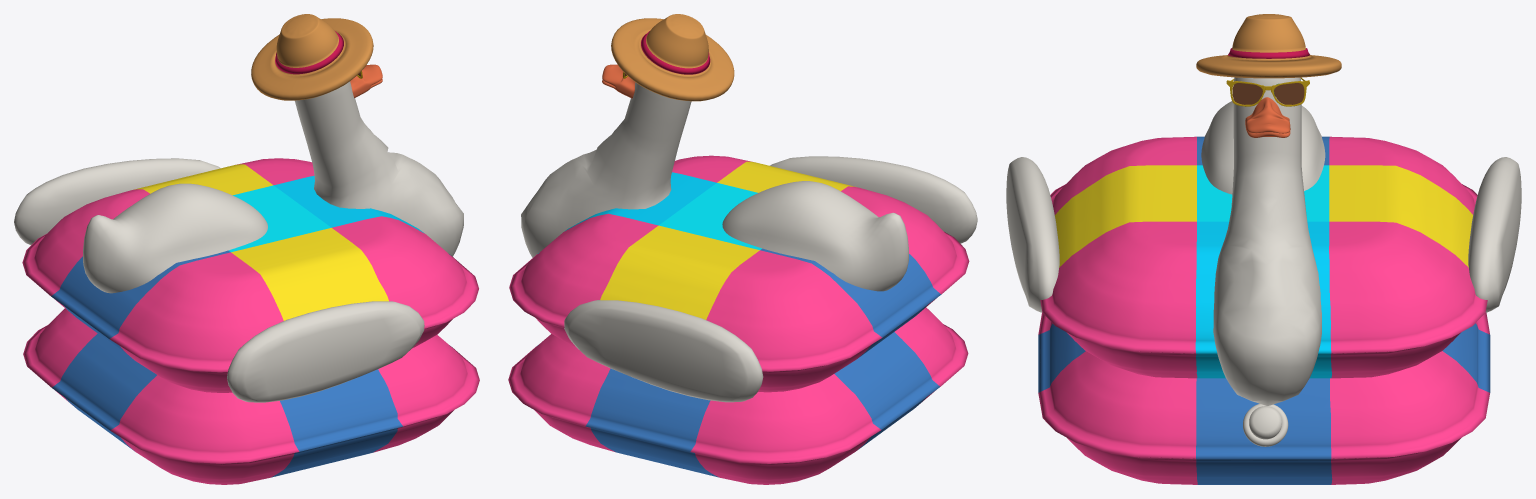
Rendered from refinedduck.fbx.
The picture shows the model from 3 angles, left to right: view 1: azimuth 30°, elevation 25°; view 2: azimuth 150°, elevation 25°; view 3: azimuth 270°, elevation 25°; orthographic projection. The views are drawn at different scales.
Visible parts, largest first — view 1: 上层; view 2: 上层; view 3: 上层.
Boxes of the visible parts, box(x1,y1,x2,y2) form: 上层: box(14, 14, 479, 484); 上层: box(508, 14, 977, 484); 上层: box(1006, 14, 1521, 484).
Size of the model in its own units: 1289 by 1266 by 1326.
